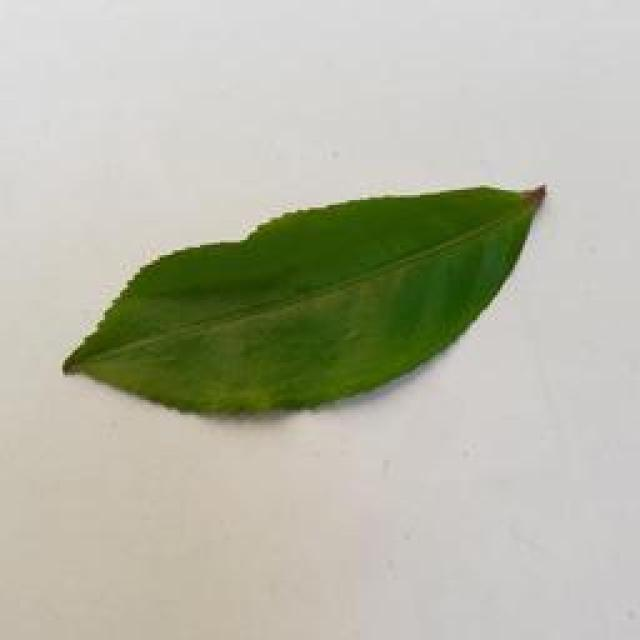Healthy: (58, 166, 553, 419)
